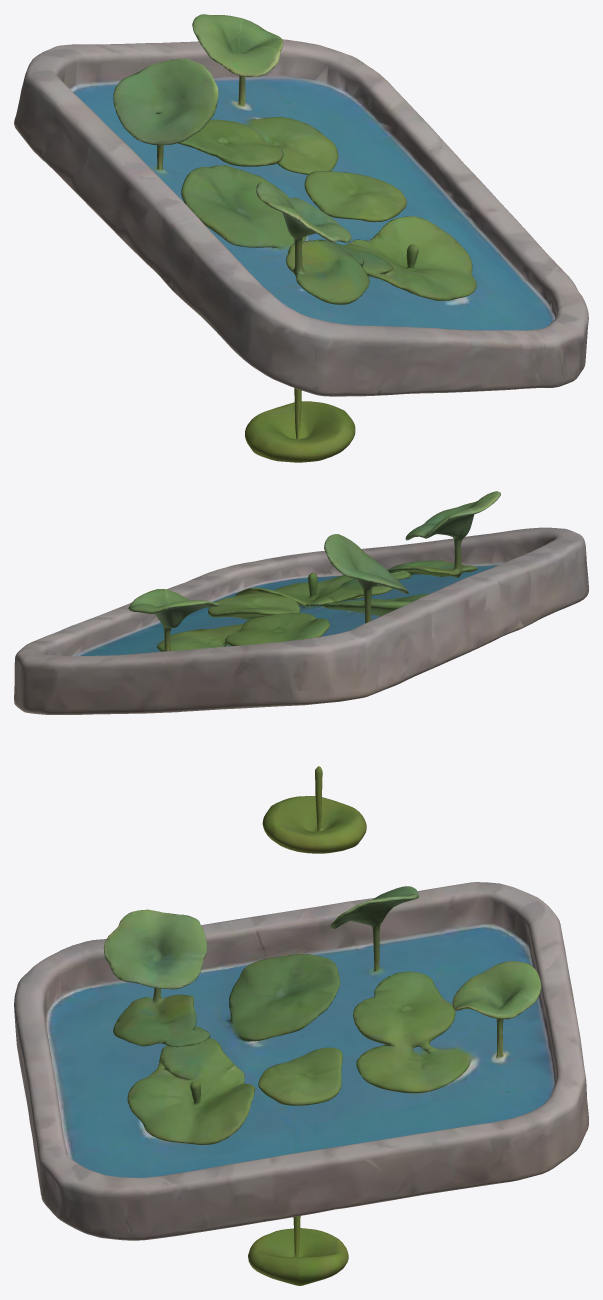
The model's file is pond.glb.
3 views of the same model, one above another, from view 1: azimuth 30°, elevation 25°; view 2: azimuth 150°, elevation 25°; view 3: azimuth 270°, elevation 25° (orthographic). The views are drawn at different scales.
Visible parts, largest first — view 1: tripo_node_5709f6ee-8cda-4bef-9b8c-7dc66dfc6eb3; view 2: tripo_node_5709f6ee-8cda-4bef-9b8c-7dc66dfc6eb3; view 3: tripo_node_5709f6ee-8cda-4bef-9b8c-7dc66dfc6eb3.
Part boxes in pixels (<box>): tripo_node_5709f6ee-8cda-4bef-9b8c-7dc66dfc6eb3: <box>14,14,588,462</box>; tripo_node_5709f6ee-8cda-4bef-9b8c-7dc66dfc6eb3: <box>14,491,588,853</box>; tripo_node_5709f6ee-8cda-4bef-9b8c-7dc66dfc6eb3: <box>14,882,588,1285</box>.
Size of the model in its own units: 0.6674 by 0.642 by 0.9487.
1 material, 1 textured.
